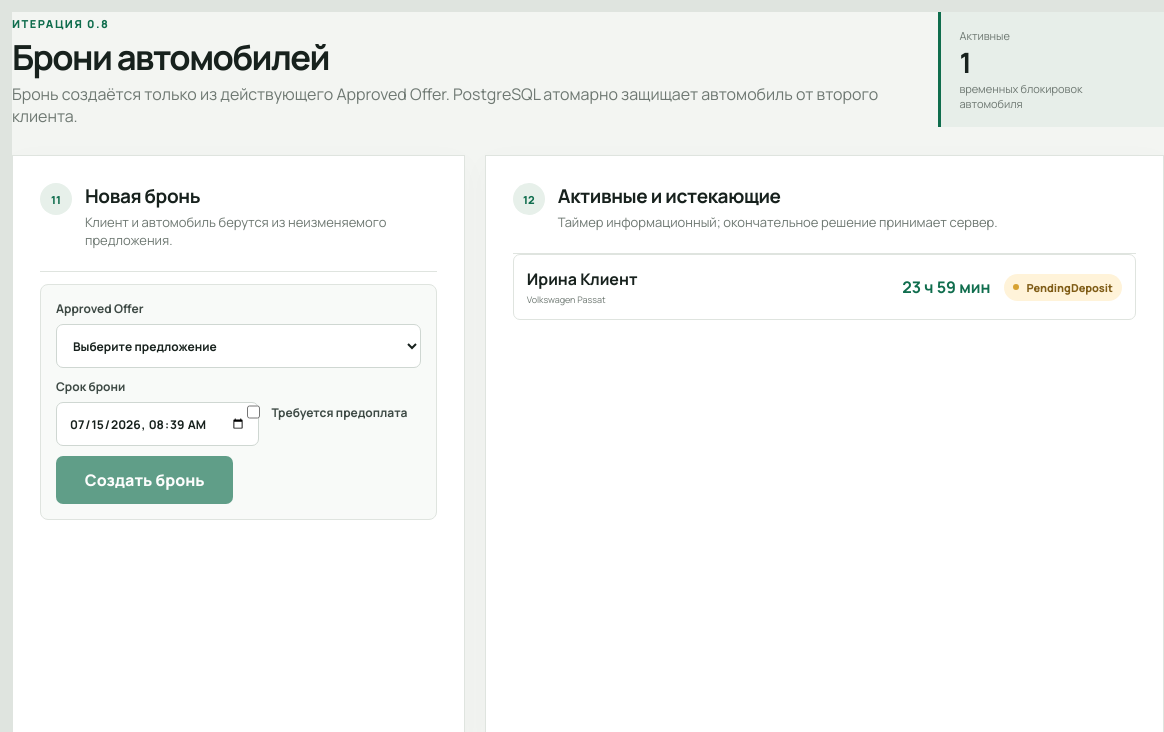
ReservationsWorkspace › registers the manual deposit through a separate command
Click the button "Ирина Клиент" at [582, 279], box left=513, top=254, right=1136, bottom=320
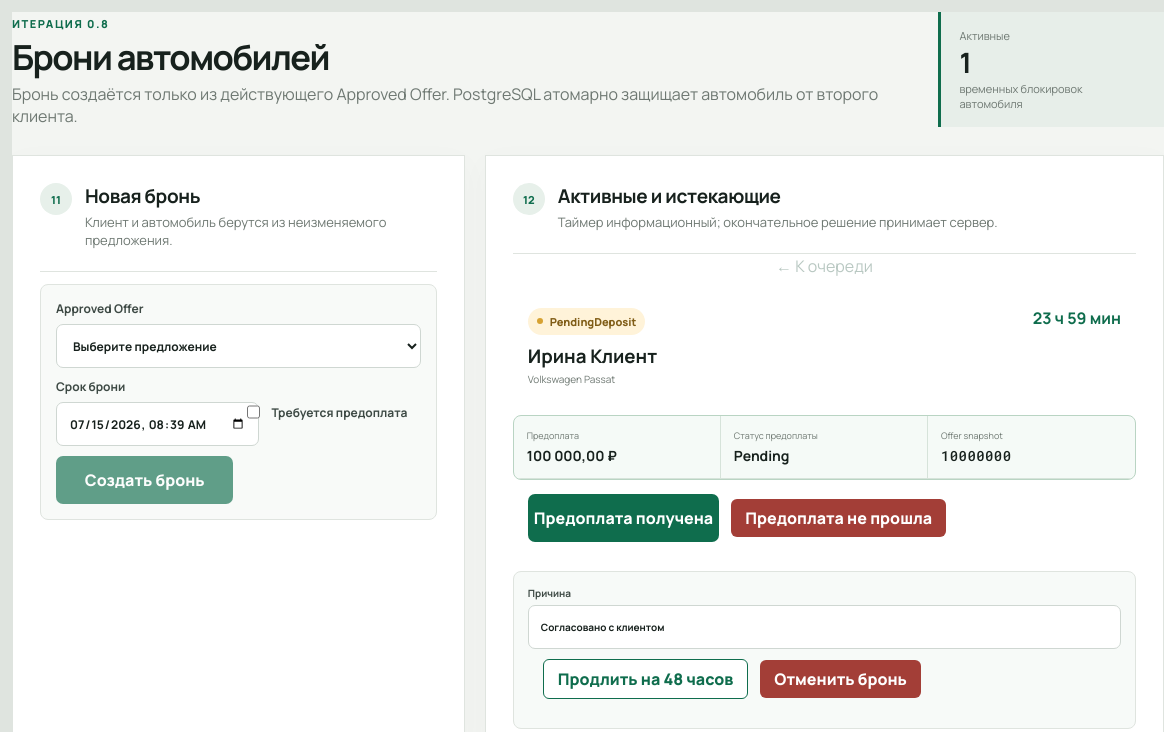
Click the button "Предоплата получена" at [624, 518], box left=528, top=494, right=719, bottom=542
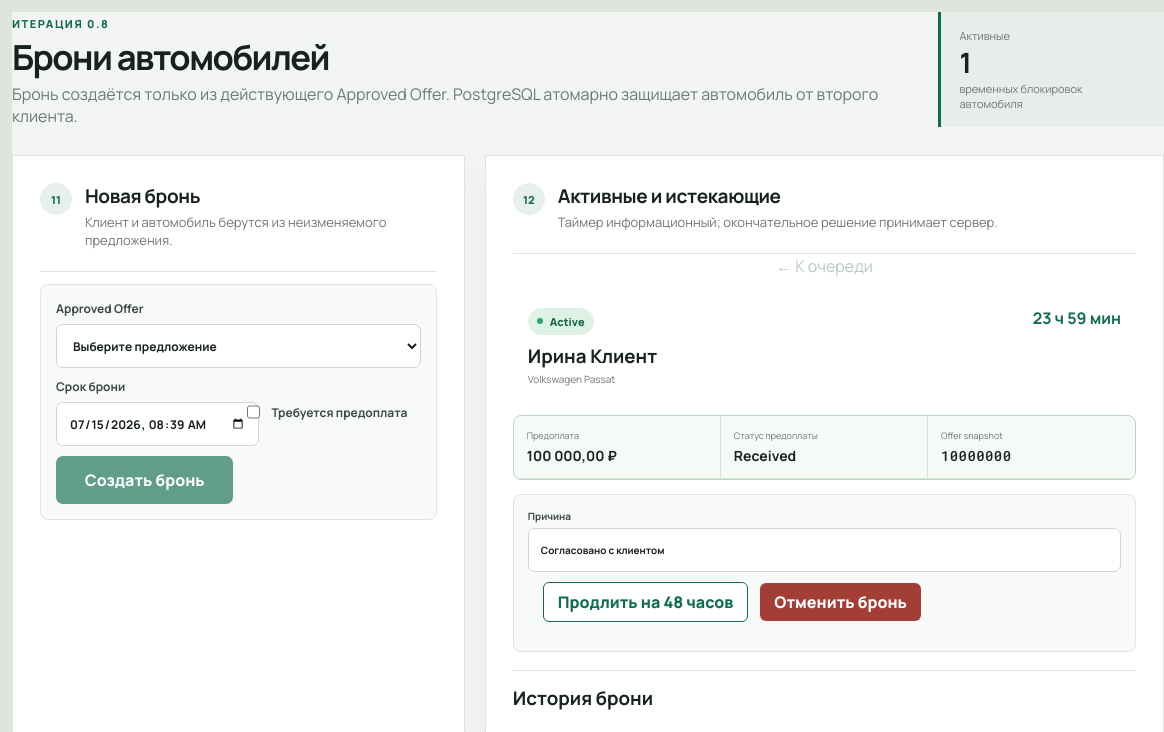
Expected: the text "Received" is shown, left=734, top=446, right=796, bottom=464
